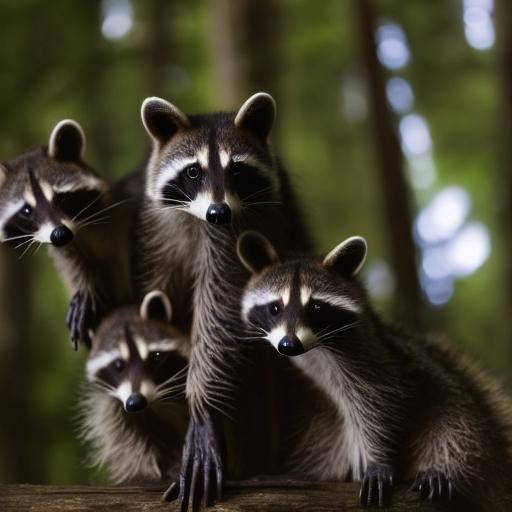raccoon: (225, 219, 510, 467), (136, 72, 306, 418), (0, 112, 129, 338), (81, 283, 200, 476)
